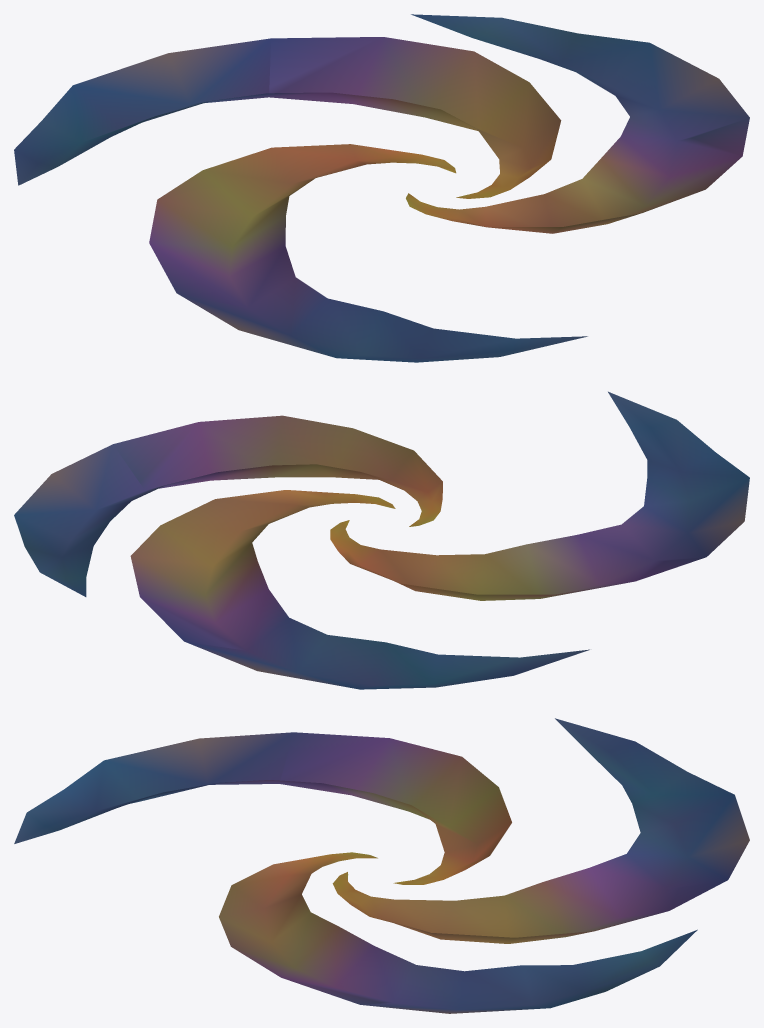
Rendered from space-galaxies-spiral-galaxy_v1.glb.
3 views of the same model, one above another, from view 1: azimuth 30°, elevation 25°; view 2: azimuth 150°, elevation 25°; view 3: azimuth 270°, elevation 25° (orthographic). The views are drawn at different scales.
Parts seen in each view (by area): view 1: Spiral Galaxy_v1; view 2: Spiral Galaxy_v1; view 3: Spiral Galaxy_v1.
Boxes of the visible parts, bbox=[...] form: Spiral Galaxy_v1: bbox=[14, 14, 749, 362]; Spiral Galaxy_v1: bbox=[14, 391, 749, 689]; Spiral Galaxy_v1: bbox=[14, 718, 749, 1013].
Size of the model in its own units: 0.4634 by 0.0265 by 0.5.
